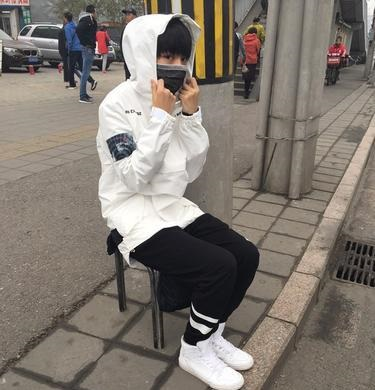face_mask: (157, 49, 187, 92)
